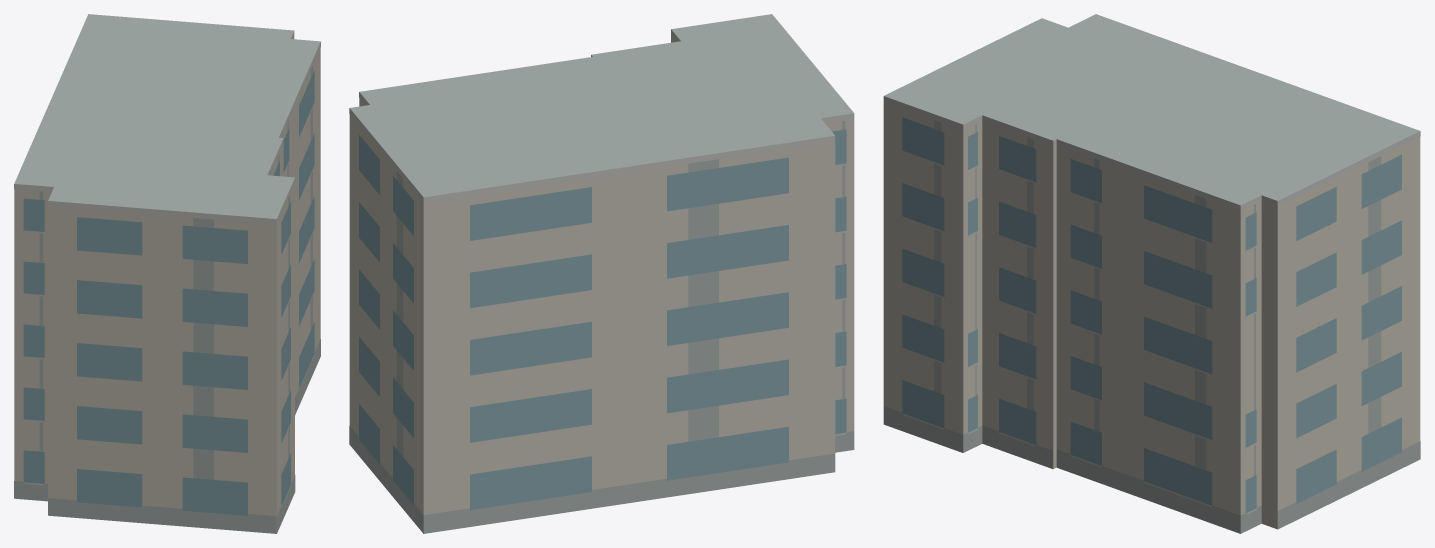
Rendered from survey-upis-32962896.glb.
3 renders of one model, left to right at view 1: azimuth 30°, elevation 25°; view 2: azimuth 150°, elevation 25°; view 3: azimuth 270°, elevation 25°, orthographic. The views are drawn at different scales.
Parts seen in each view (by area): view 1: survey-upis-32962896.tmp; view 2: survey-upis-32962896.tmp; view 3: survey-upis-32962896.tmp.
Part boxes in pixels (x1,y1,x2,y2): survey-upis-32962896.tmp: (14,14,320,533); survey-upis-32962896.tmp: (349,14,854,533); survey-upis-32962896.tmp: (883,14,1420,533).
Size of the model in its own units: 17.07 by 13.65 by 20.22.
